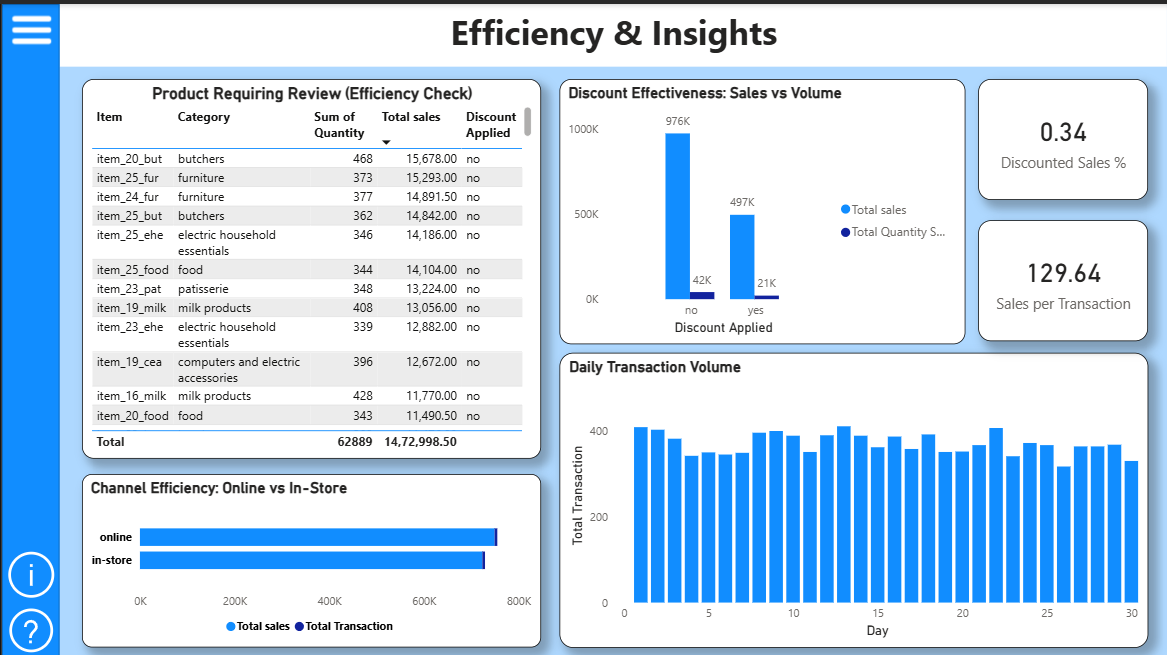

Layout of this report page (visuals, bound fields, positions):
{"tool":"powerbi","page":{"name":"Page 3","canvas":[1280,720],"ordinal":2},"visuals":[{"type":"tableEx","title":"Product Requiring Review (Efficiency Check)","fields":{"Values":["retail_store_sales_clean.Item","retail_store_sales_clean.Category","Sum(retail_store_sales_clean.Quantity)","retail_store_sales_clean.Total sales","retail_store_sales_clean.Discount Applied"]},"box":[87.8,82.3,503.6,417.2],"z":0},{"type":"actionButton","title":"Ques","box":[1.4,654.3,61.4,65.7],"z":0,"group":"g2"},{"type":"clusteredColumnChart","title":"Discount Effectiveness: Sales vs Volume","fields":{"Category":["retail_store_sales_clean.Discount Applied"],"Y":["retail_store_sales_clean.Total sales","retail_store_sales_clean.Total Quantity Sold"]},"box":[612,82.3,446,290.9],"z":1000},{"type":"actionButton","title":"Info","box":[0,592.9,64.3,67.1],"z":1000,"group":"g2"},{"type":"actionButton","title":"Menu","box":[4.3,0,61.4,57.1],"z":2000,"group":"g2"},{"type":"columnChart","title":"Daily Transaction Volume","fields":{"Category":["retail_store_sales_clean.Transaction Date.Variation.Date Hierarchy.Day"],"Y":["retail_store_sales_clean.Total Transaction"]},"box":[612,382.8,646.3,323.8],"z":2000},{"type":"barChart","title":"Channel Efficiency: Online vs In-Store","fields":{"Category":["retail_store_sales_clean.Location"],"Y":["retail_store_sales_clean.Total sales","retail_store_sales_clean.Total Transaction"]},"box":[87.8,516,503.6,190.7],"z":3000},{"type":"card","fields":{"Values":["retail_store_sales_clean.Sales per Transaction"]},"box":[1071.7,237.4,186.6,133.1],"z":4000},{"type":"textbox","box":[63.1,0,1217.2,68.6],"z":5000},{"type":"group","id":"g1","title":"Group 1","box":[0,0,67.2,720.4],"z":6000},{"type":"card","fields":{"Values":["retail_store_sales_clean.Discounted Sales %"]},"box":[1071.7,82.3,186.6,133.1],"z":7000},{"type":"shape","box":[0,0,63.1,720.4],"z":11000,"group":"g1"},{"type":"group","id":"g2","title":"Menu bar","box":[0,0,67.2,720.4],"z":12000,"group":"g1"}]}

Visuals, with their boxes in screenshot pixels (x1, y1, x2, y2), scaled from the page's 1280x720 canvas onto the 1167x655 screenshot:
"Product Requiring Review (Efficiency Check)" tableEx: rect(80, 75, 539, 454)
"Ques" actionButton: rect(1, 595, 57, 654)
"Discount Effectiveness: Sales vs Volume" clusteredColumnChart: rect(558, 75, 965, 340)
"Info" actionButton: rect(0, 539, 59, 600)
"Menu" actionButton: rect(4, 0, 60, 52)
"Daily Transaction Volume" columnChart: rect(558, 348, 1147, 643)
"Channel Efficiency: Online vs In-Store" barChart: rect(80, 469, 539, 643)
card - retail_store_sales_clean.Sales per Transaction: rect(977, 216, 1147, 337)
textbox: rect(58, 0, 1166, 62)
"Group 1" group: rect(0, 0, 61, 654)
card - retail_store_sales_clean.Discounted Sales %: rect(977, 75, 1147, 196)
shape: rect(0, 0, 58, 654)
"Menu bar" group: rect(0, 0, 61, 654)
